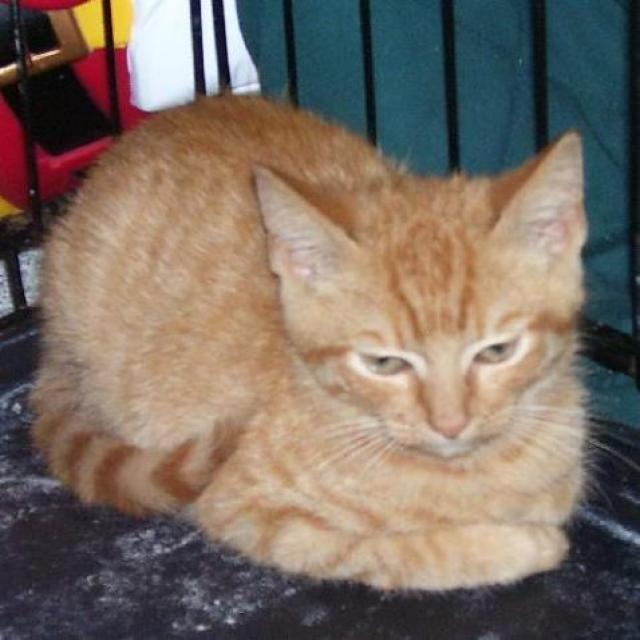Cat: (27, 87, 613, 591)
